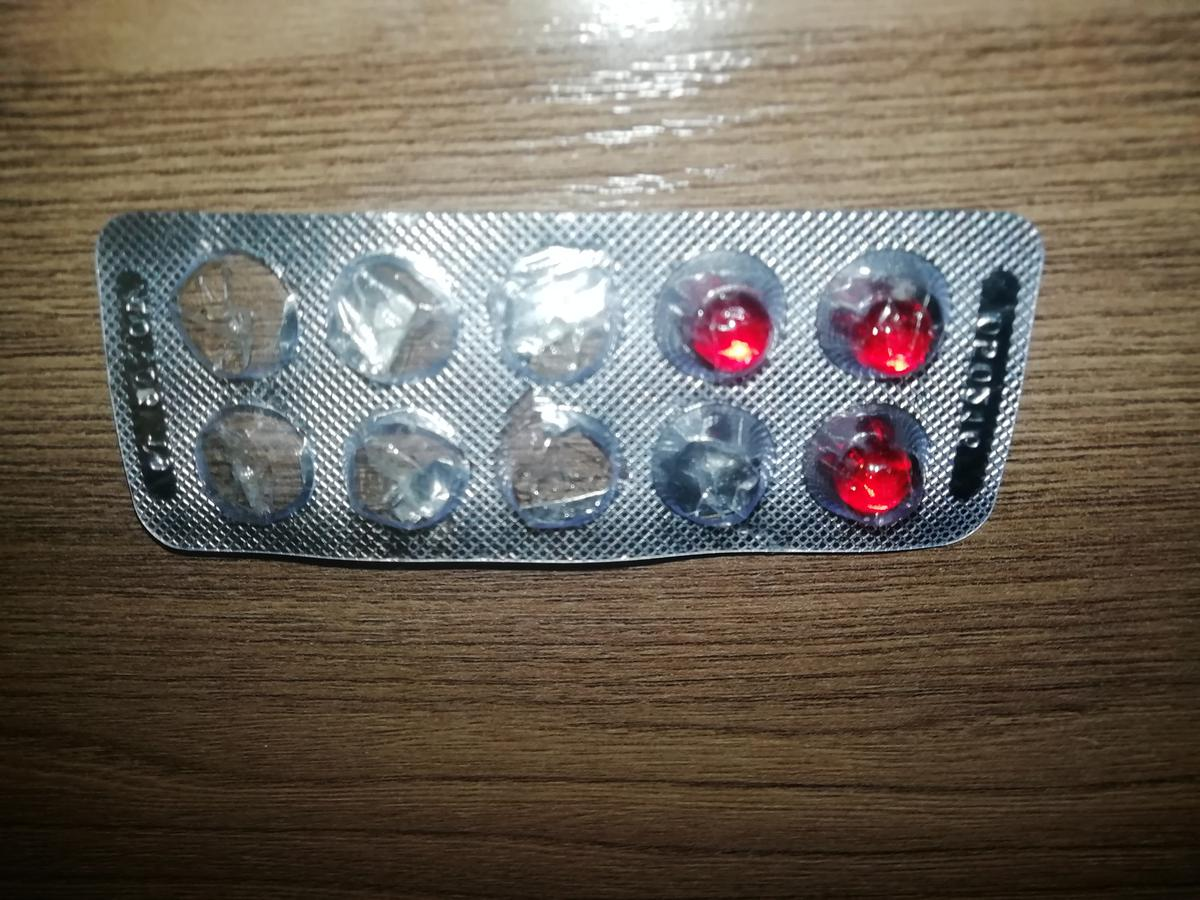tablet: (662, 253, 788, 390), (819, 255, 945, 392), (805, 406, 931, 543)
